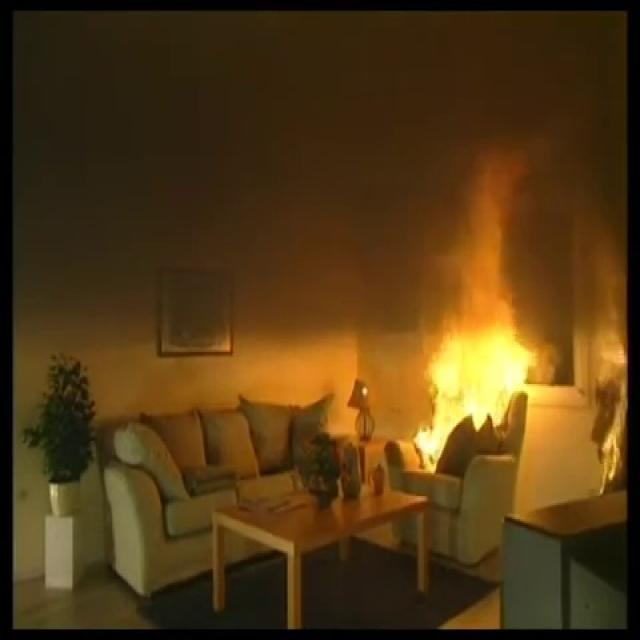Fire: (410, 327, 542, 448)
Smoke: (412, 121, 542, 326)
